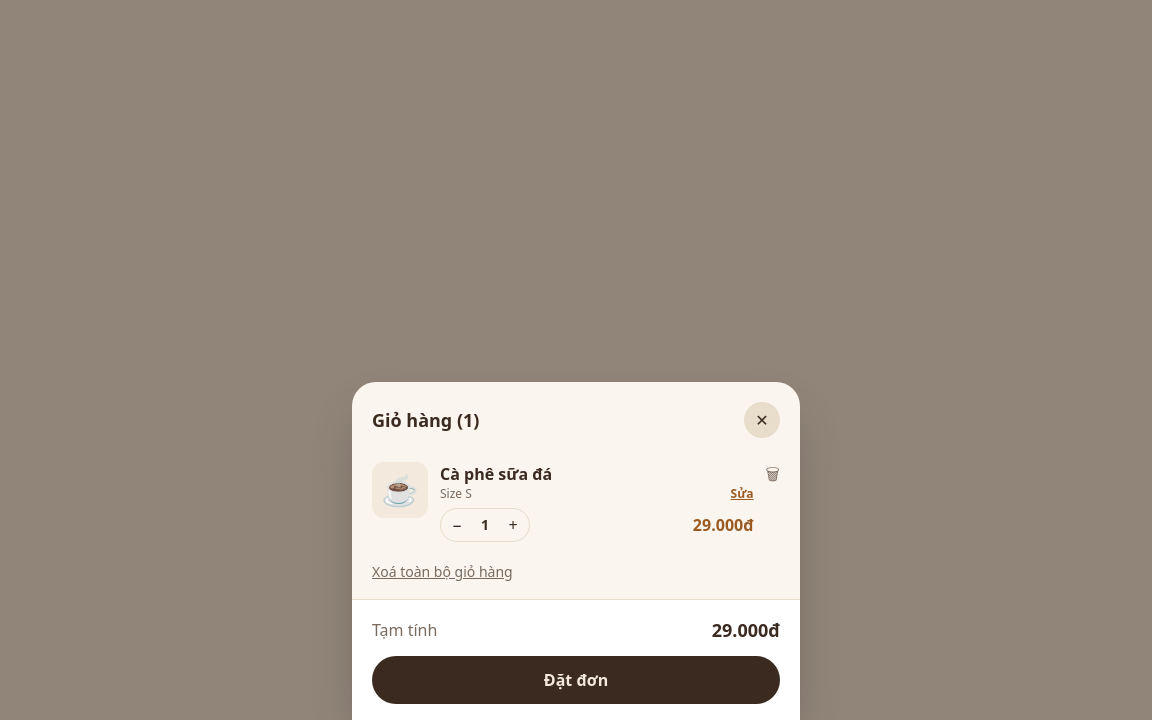
Scenario: CartSheet - sửa size/topping › đổi topping thì cập nhật giá hiển thị
Expected: the text "Cà phê sữa đá" is shown, [440,463,552,485]
Click the button with aria-label "Sửa Cà phê sữa đá" at (742, 494), box [731,486,754,502]
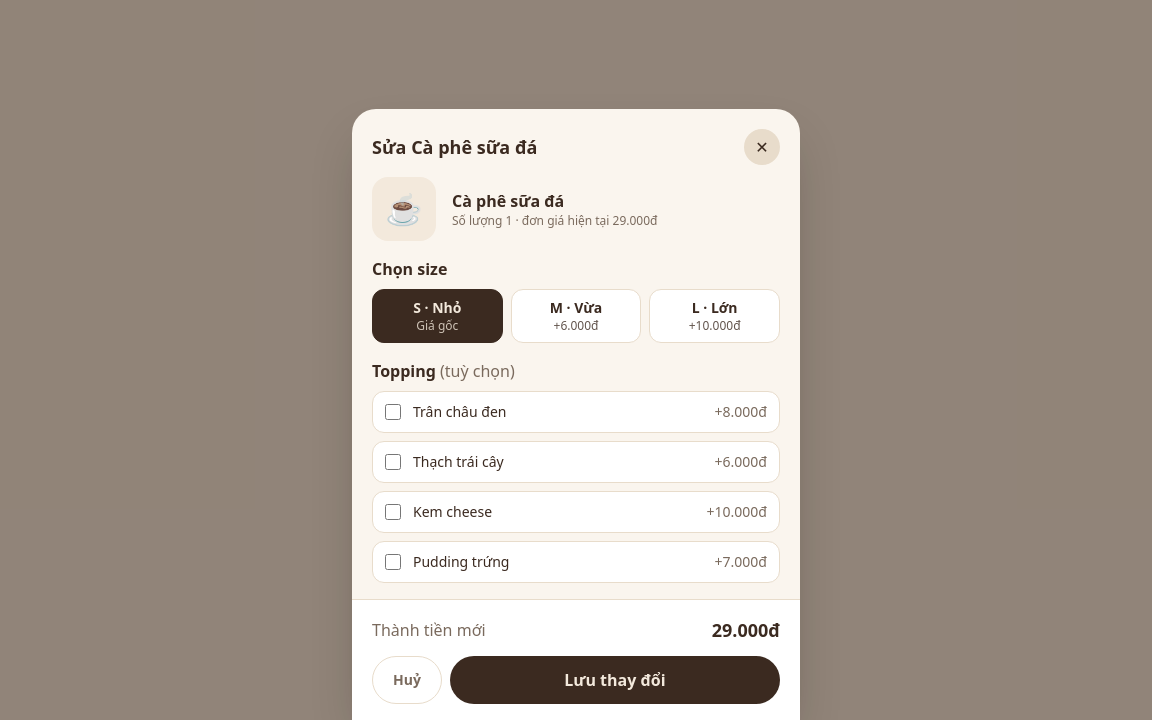
Click the checkbox labelled "Trân châu đen +8.000đ" at (393, 412), box [385,404,401,420]
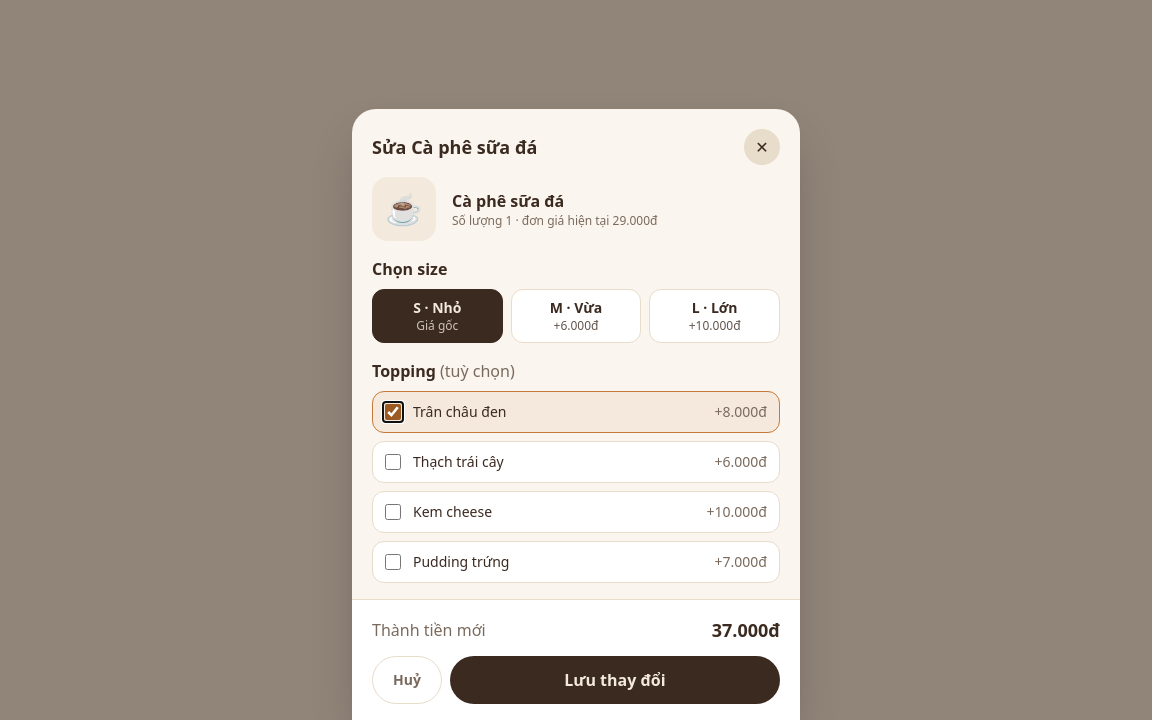
Click the button "Lưu thay đổi" at (615, 680), box [450,656,780,704]
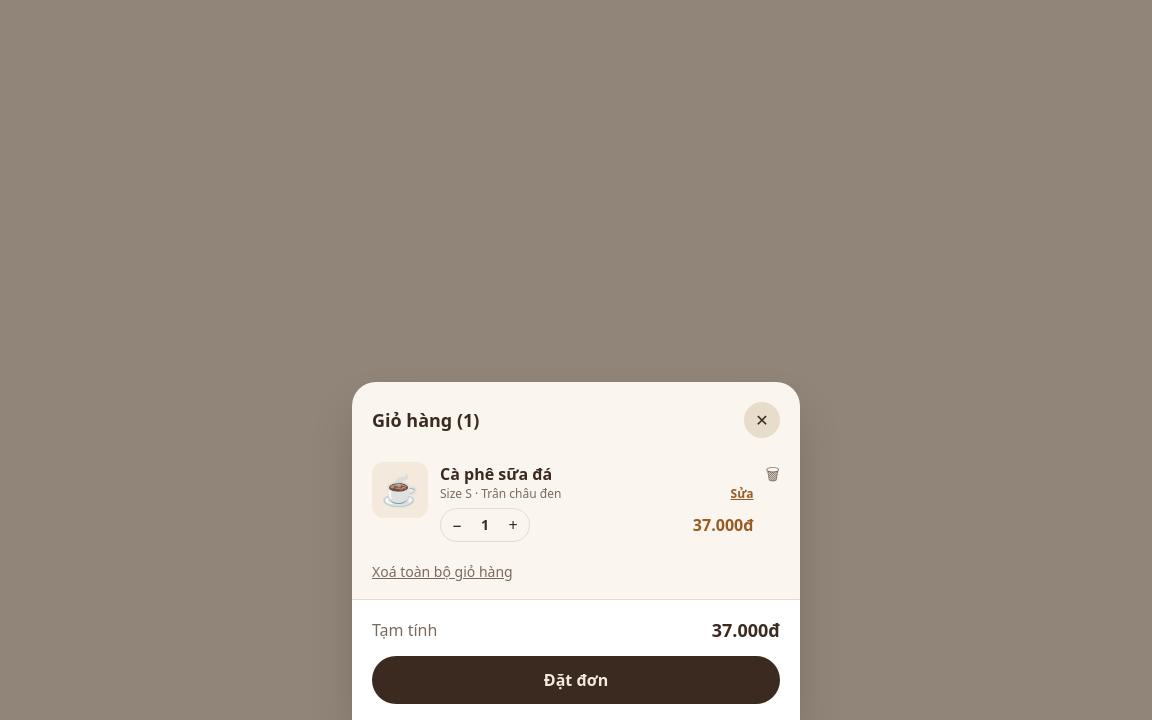
Now the text "Size S · Trân châu đen" is shown, box [440,486,561,502]
Now the text "37.000đ" below "Size" is shown, box [693,514,754,536]
